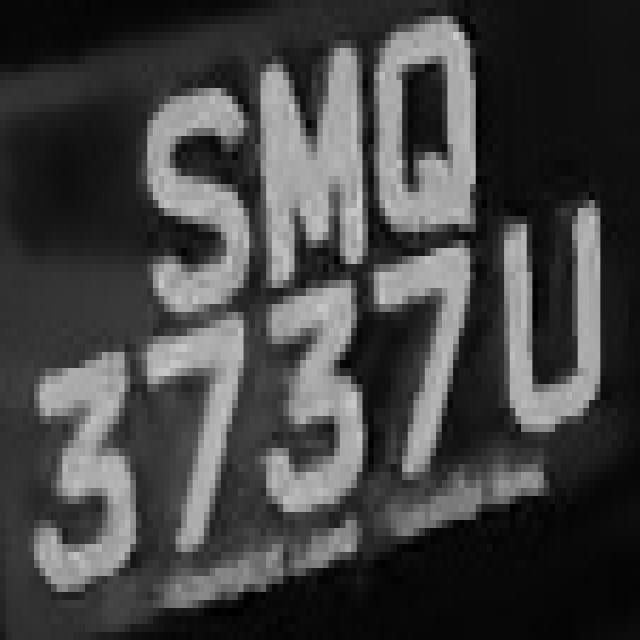3: (12, 328, 148, 624), (255, 264, 391, 520)
7: (351, 240, 487, 520), (130, 312, 261, 584)
M: (255, 48, 379, 288)
Q: (374, 32, 504, 248)
S: (130, 72, 255, 328)
U: (487, 176, 617, 472)
